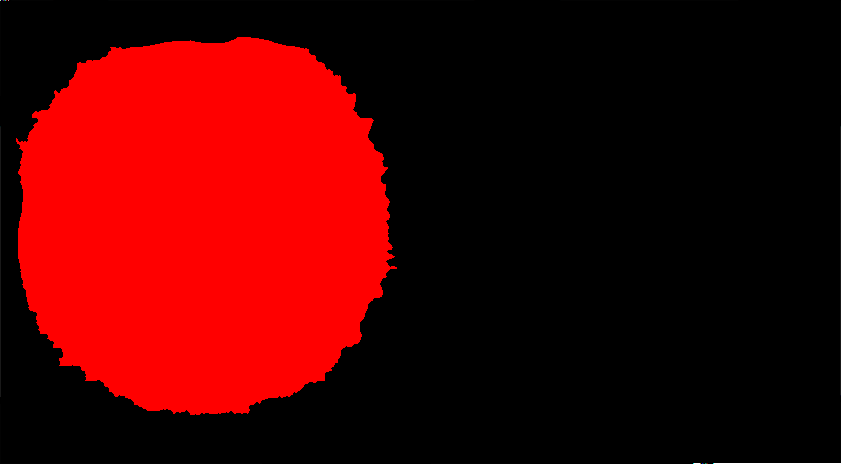stamp: (13, 25, 394, 410)
